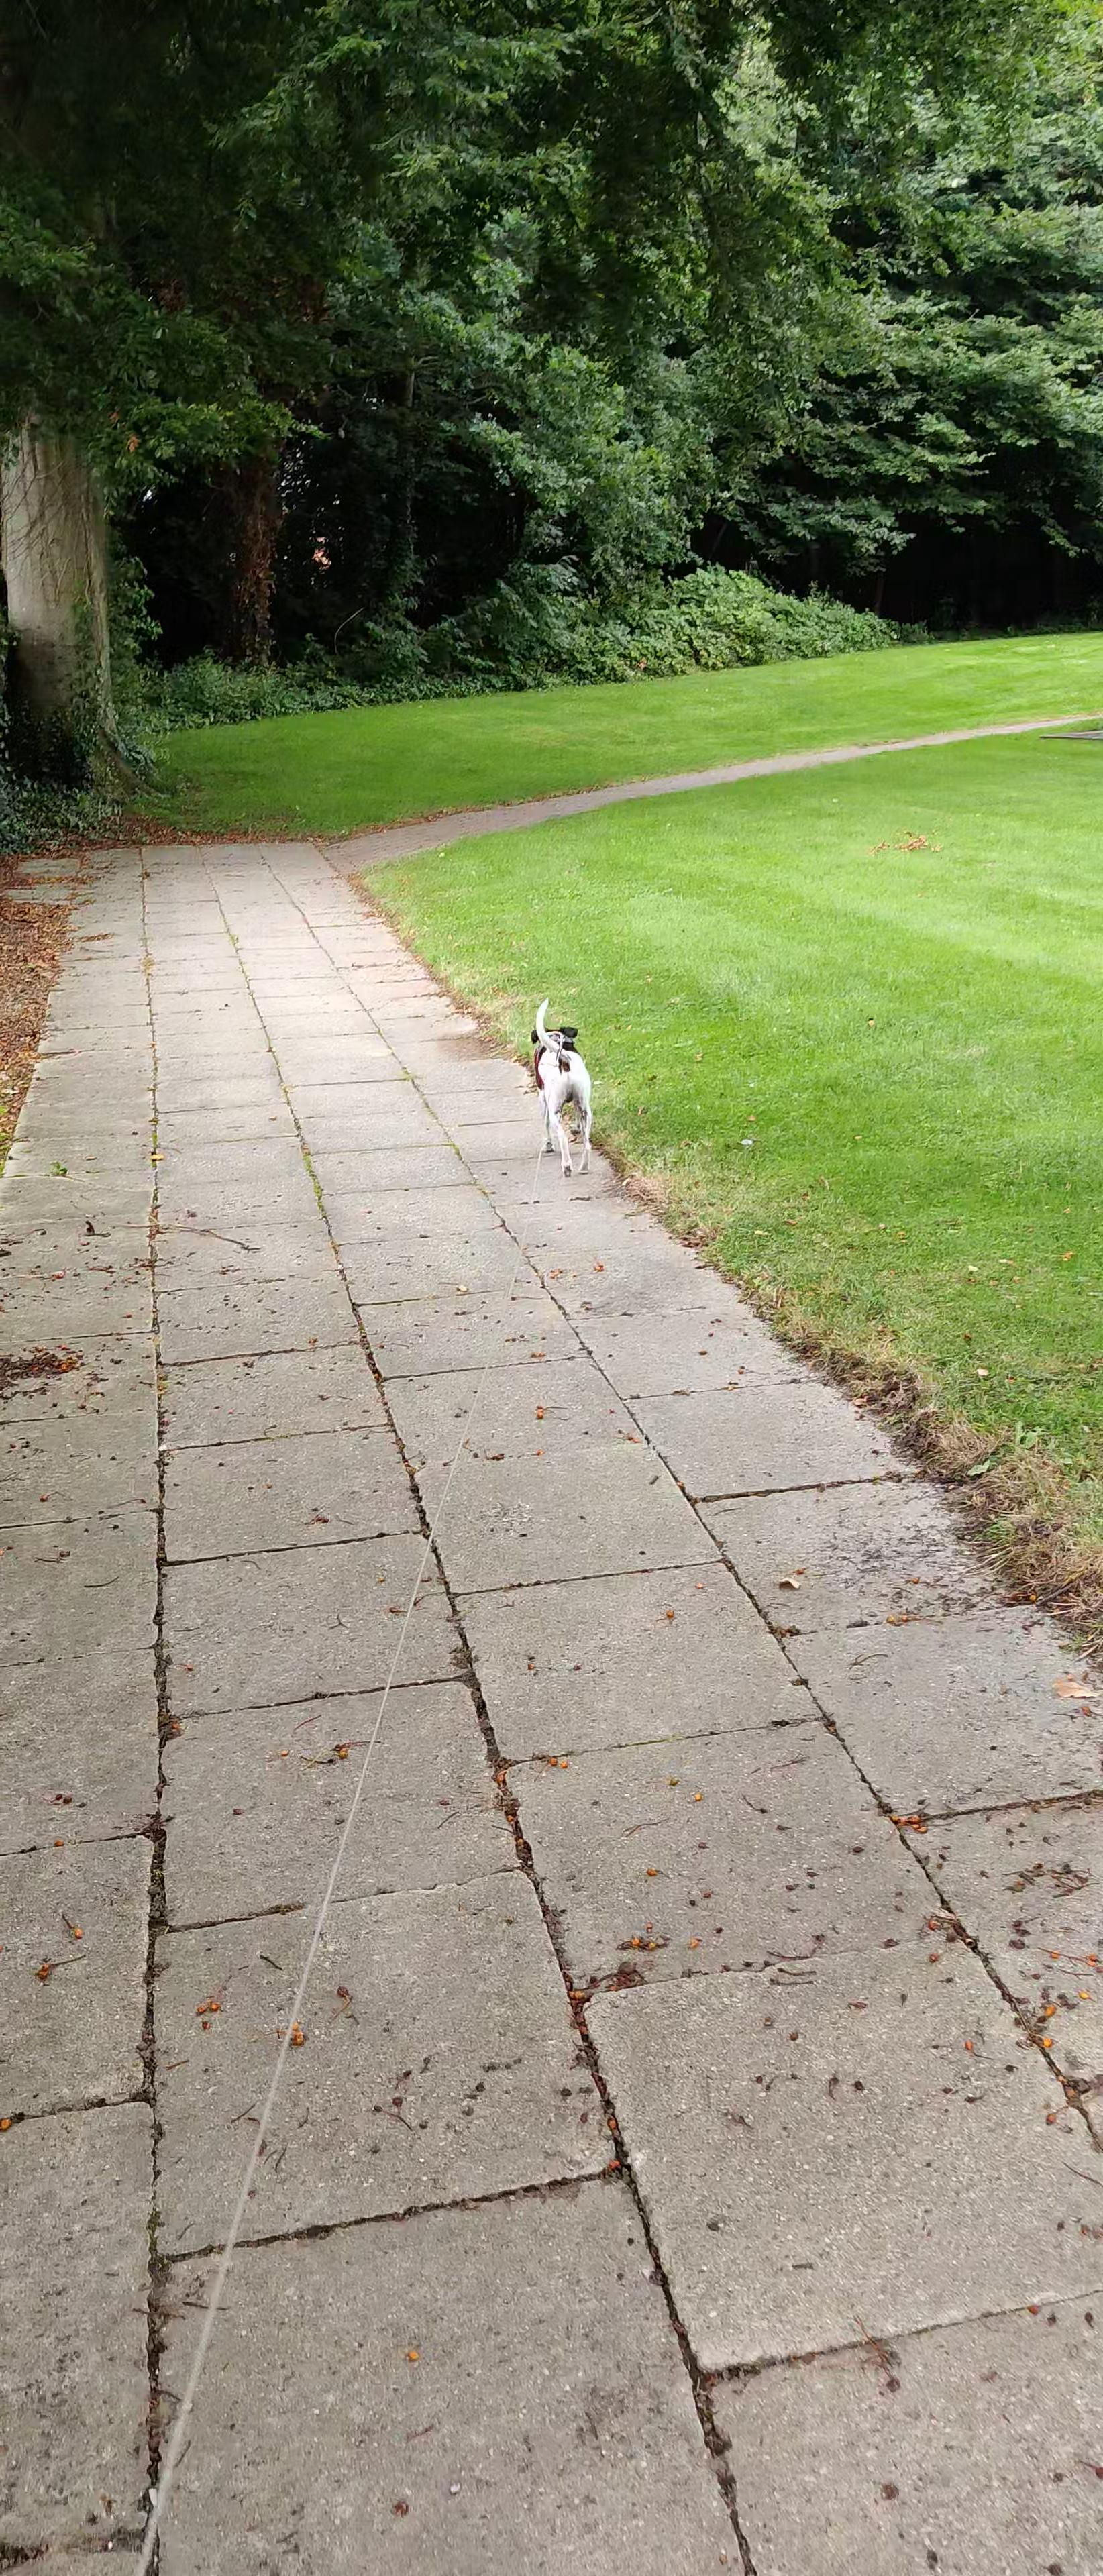Dog: (510, 994, 610, 1178)
